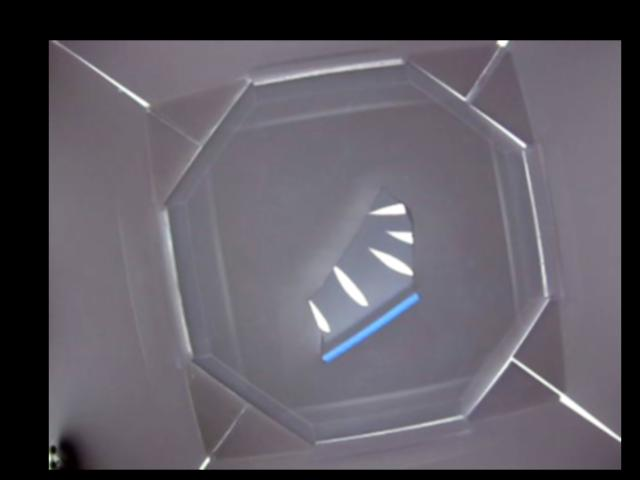China: (304, 182, 421, 356)
